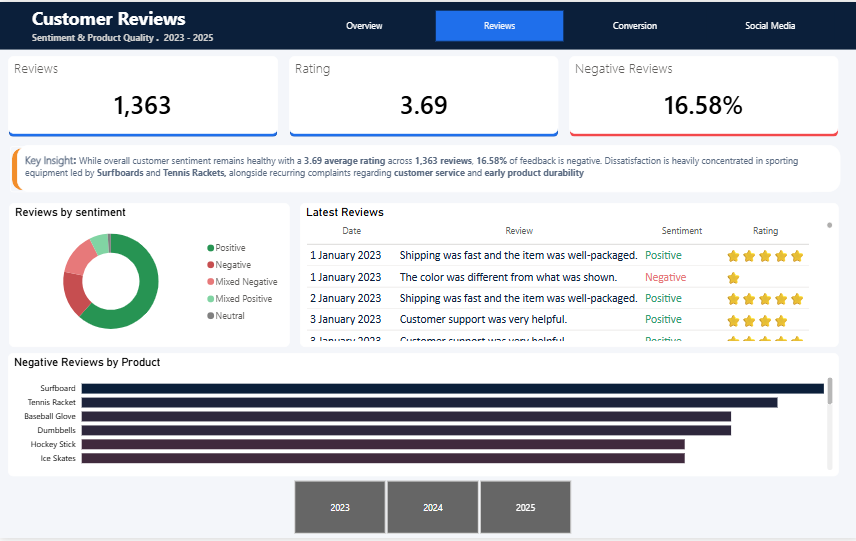

The dashboard page shown, as its layout file describes it:
{"tool":"powerbi","page":{"name":"Reviews","canvas":[1283,800],"ordinal":1},"visuals":[{"type":"shape","box":[14.7,175,400.3,26.5],"z":0,"group":"g2"},{"type":"shape","box":[16.9,214.7,1200,69.1],"z":0,"group":"g1"},{"type":"donutChart","title":"Reviews by sentiment","fields":{"Category":["fct_customer_reviews_with_sentiment.SentimentCategory"],"Y":["_Measures.Number of Customer Reviews"]},"box":[14.7,300,419.1,214.7],"z":0},{"type":"card","title":"Reviews","fields":{"Values":["_Measures.Number of Customer Reviews"]},"box":[13.2,80.9,402.9,116.2],"z":1000,"group":"g2"},{"type":"textbox","box":[26.9,213.2,1228.6,70],"z":1000,"group":"g1"},{"type":"tableEx","title":"Latest Reviews","fields":{"Values":["fct_customer_reviews_with_sentiment.ReviewDate","fct_customer_reviews_with_sentiment.ReviewText","fct_customer_reviews_with_sentiment.SentimentCategory","fct_customer_reviews_with_sentiment.RatingStars"]},"box":[448.5,300,804.4,214.7],"z":1000},{"type":"shape","box":[434.1,175,400,26.5],"z":2000,"group":"g2"},{"type":"clusteredBarChart","title":"Negative Reviews by Product","fields":{"Category":["dim_products.ProductName"],"Y":["_Measures.Number of Negative Reviews"]},"box":[13.2,523.5,1239.7,183.8],"z":2000},{"type":"textbox","box":[0,0,1282.4,70.6],"z":3000},{"type":"card","title":"Rating","fields":{"Values":["_Measures.Rating (Average)"]},"box":[432.2,80.9,402.4,116.2],"z":3000,"group":"g2"},{"type":"shape","box":[852.1,175,400,26.5],"z":4000,"group":"g2"},{"type":"slicer","fields":{"Values":["Calendar.Year"]},"box":[414.7,707.4,463.2,92.6],"z":4000},{"type":"card","title":"Negative Reviews","fields":{"Values":["_Measures.Negative Review %"]},"box":[850.6,80.9,402.4,116.2],"z":5000,"group":"g2"},{"type":"pageNavigator","box":[448.5,11.8,800,47.1],"z":8000},{"type":"group","id":"g1","title":"KeyInsightBox","box":[16.9,213.2,1238.6,70.6],"z":10000},{"type":"group","id":"g2","title":"Group 1","box":[13.2,80.9,1238.2,120.6],"z":11000}]}

Visuals, with their boxes in screenshot pixels (x1, y1, x2, y2), scaled from the page's 1283x800 canvas onto the 856x541 screenshot:
shape: 10, 118, 277, 136
shape: 11, 145, 812, 192
"Reviews by sentiment" donutChart: 10, 203, 289, 348
"Reviews" card: 9, 55, 278, 133
textbox: 18, 144, 838, 192
"Latest Reviews" tableEx: 299, 203, 836, 348
shape: 290, 118, 557, 136
"Negative Reviews by Product" clusteredBarChart: 9, 354, 836, 478
textbox: 0, 0, 855, 48
"Rating" card: 288, 55, 557, 133
shape: 569, 118, 835, 136
slicer - Calendar.Year: 277, 478, 586, 540
"Negative Reviews" card: 568, 55, 836, 133
pageNavigator: 299, 8, 833, 40
"KeyInsightBox" group: 11, 144, 838, 192
"Group 1" group: 9, 55, 835, 136
